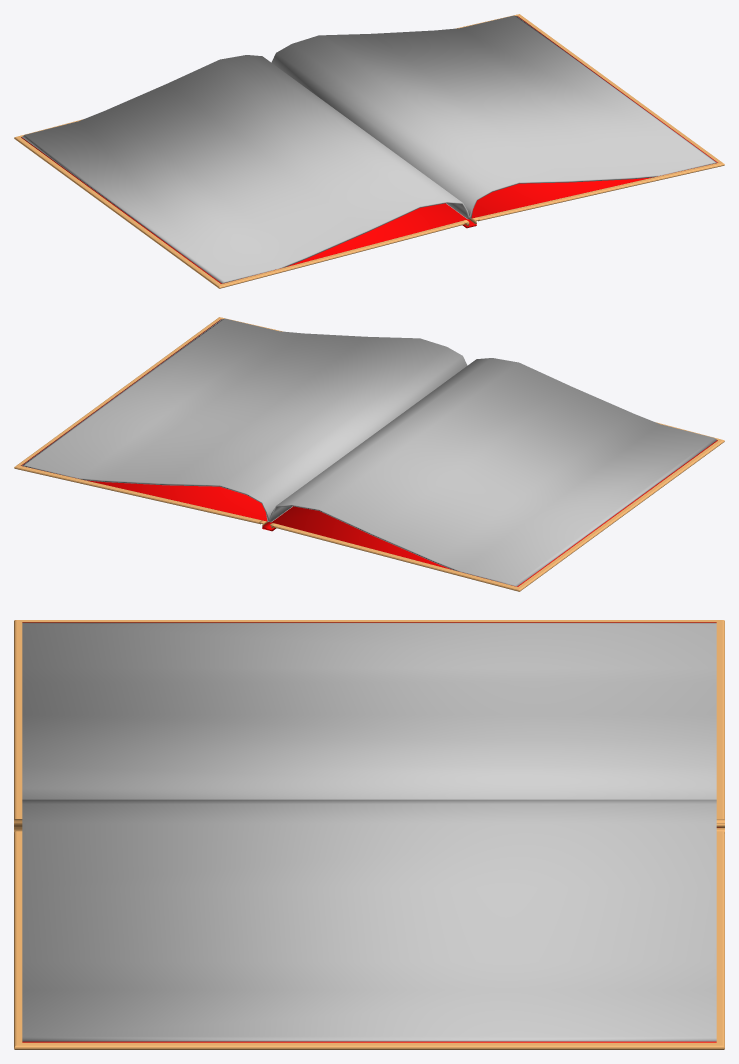
Rendered from comicBookOpen.gltf.
3 renders of one model, top to bottom at view 1: azimuth 30°, elevation 25°; view 2: azimuth 150°, elevation 25°; view 3: azimuth 270°, elevation 25°, orthographic. The views are drawn at different scales.
Visible parts, largest first — view 1: pages_gauches, pages_droites, page_couverture_droite, page_couverture_gauche, face_avant, face_arriere; view 2: pages_gauches, pages_droites, page_couverture_droite, page_couverture_gauche, face_avant, face_arriere; view 3: pages_droites, pages_gauches, face_arriere, face_avant, page_couverture_droite, page_couverture_gauche.
Boxes of the visible parts, <box> form: pages_gauches: <box>22,55,469,283</box>; pages_droites: <box>271,15,716,218</box>; page_couverture_droite: <box>471,16,717,218</box>; page_couverture_gauche: <box>21,137,467,283</box>; face_avant: <box>14,119,465,288</box>; face_arriere: <box>456,14,724,221</box>; pages_gauches: <box>269,358,716,586</box>; pages_droites: <box>22,318,467,521</box>; page_couverture_droite: <box>21,319,267,521</box>; page_couverture_gauche: <box>271,440,717,586</box>; face_avant: <box>273,422,724,591</box>; face_arriere: <box>14,317,282,524</box>; pages_droites: <box>22,799,716,1041</box>; pages_gauches: <box>22,623,716,799</box>; face_arriere: <box>14,831,724,1049</box>; face_avant: <box>14,620,724,818</box>; page_couverture_droite: <box>22,1041,716,1042</box>; page_couverture_gauche: <box>22,622,716,622</box>.
Bounding box in the file's own units: 0.2473 × 0.0149 × 0.1738.
